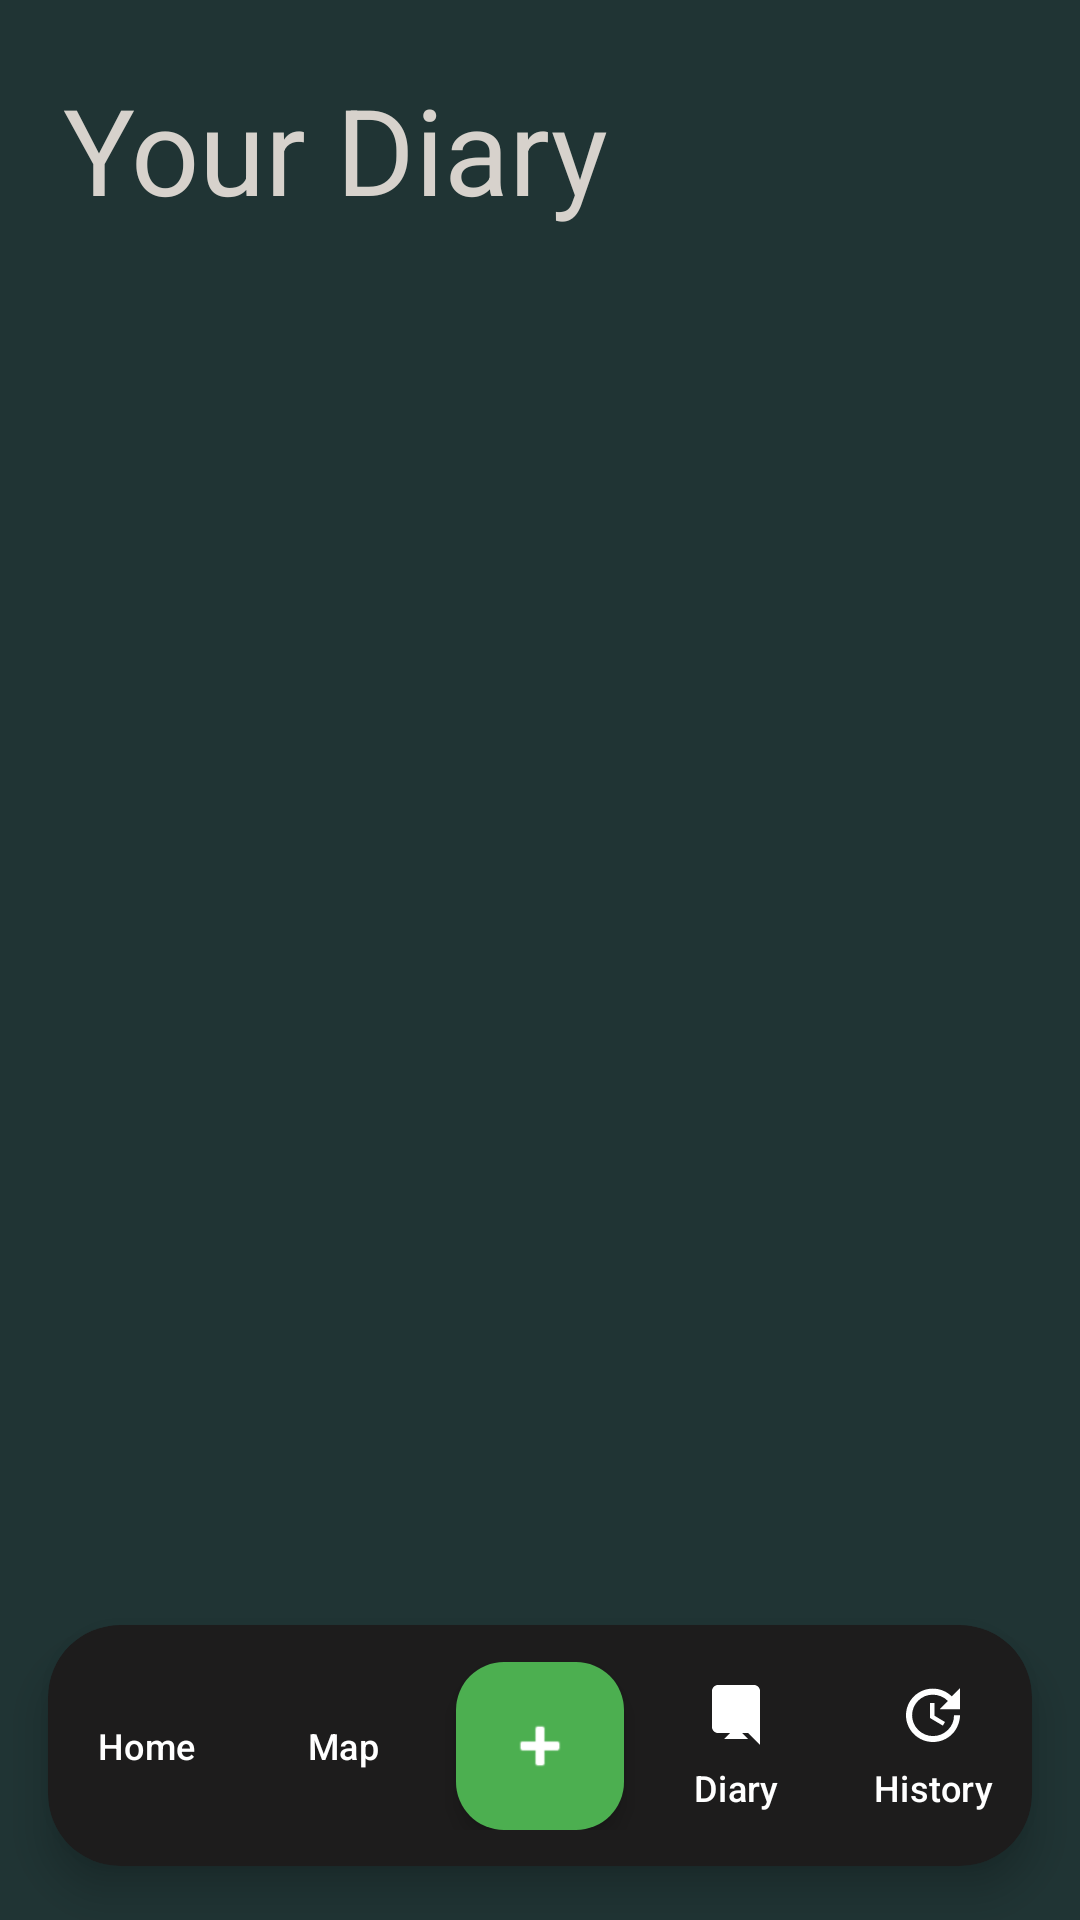

Point at icon controls on the screen. Image size 1080 x 1920, points as [x,y].
add: [540,1746]
